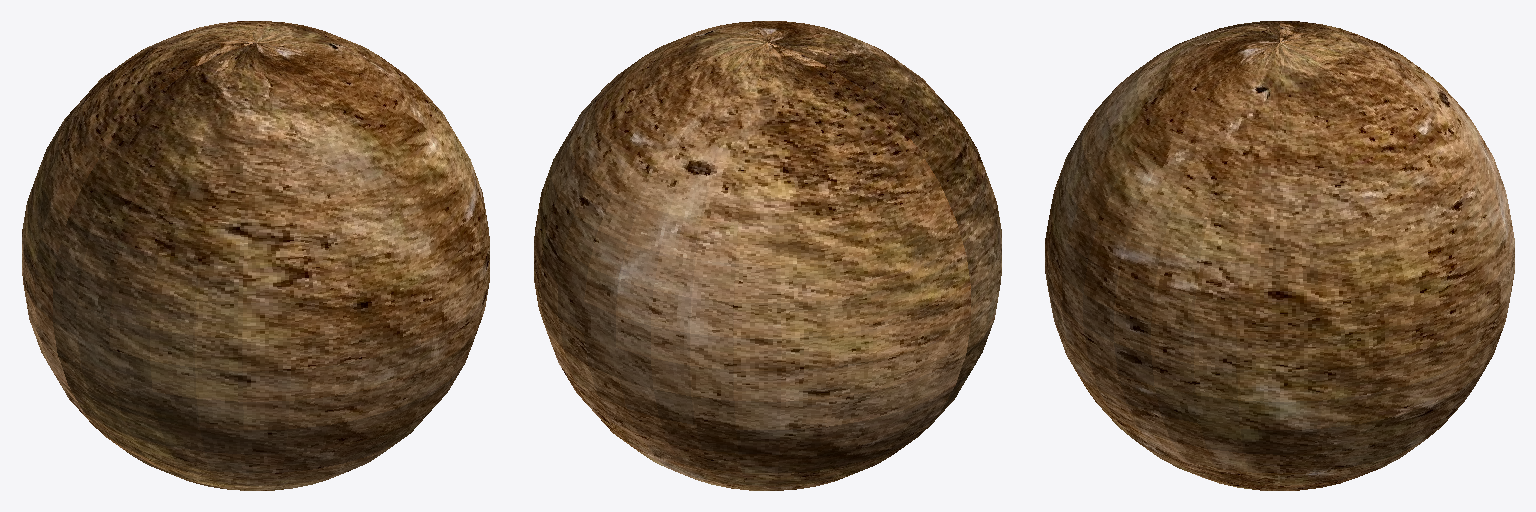
The picture shows the model from 3 angles: view 1: azimuth 30°, elevation 25°; view 2: azimuth 150°, elevation 25°; view 3: azimuth 270°, elevation 25°; orthographic projection.
Visible parts, largest first — view 1: サーフェス球; view 2: サーフェス球; view 3: サーフェス球.
Part boxes in pixels (x1,y1,x2,y2): サーフェス球: (22, 21, 489, 490); サーフェス球: (534, 21, 1001, 490); サーフェス球: (1045, 21, 1514, 490).
Size of the model in its own units: 1.99 by 2 by 1.99.
1 materials, 1 textured.